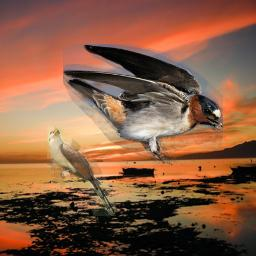Cuckoo: (47, 126, 116, 216)
Swallow: (63, 44, 223, 164)
